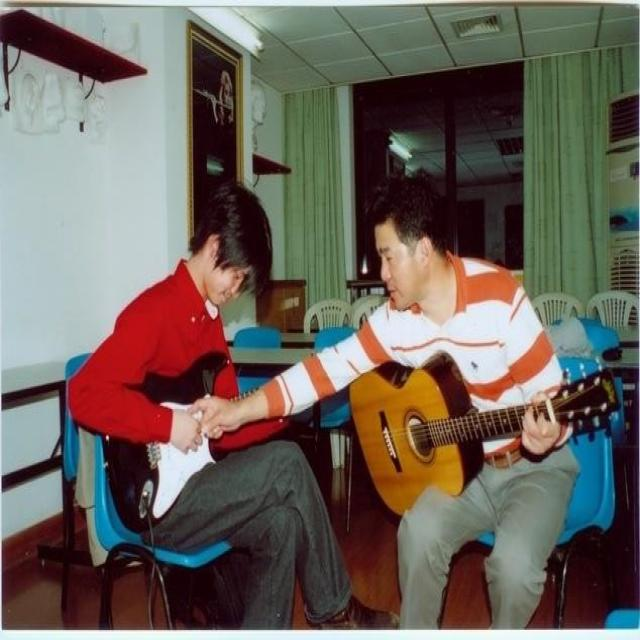guitar: (350, 354, 622, 514), (106, 350, 292, 526)
